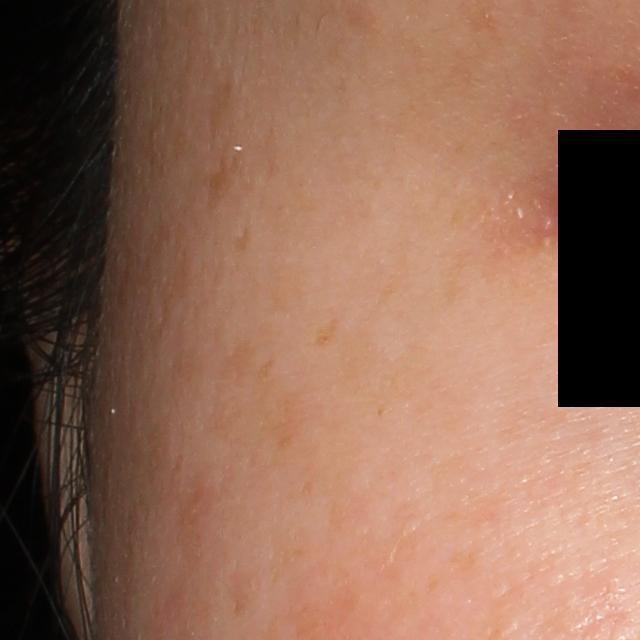melasma: (201, 338, 304, 480), (172, 476, 224, 573), (202, 149, 245, 208), (312, 314, 342, 352), (255, 350, 280, 386), (229, 226, 254, 257)
